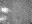person: (1, 8, 11, 16), (1, 19, 6, 23)
